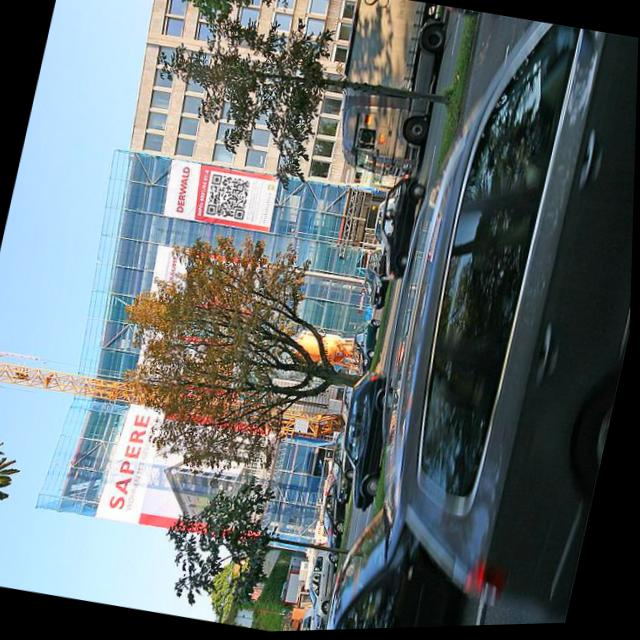qrcode: (207, 176, 253, 223)
